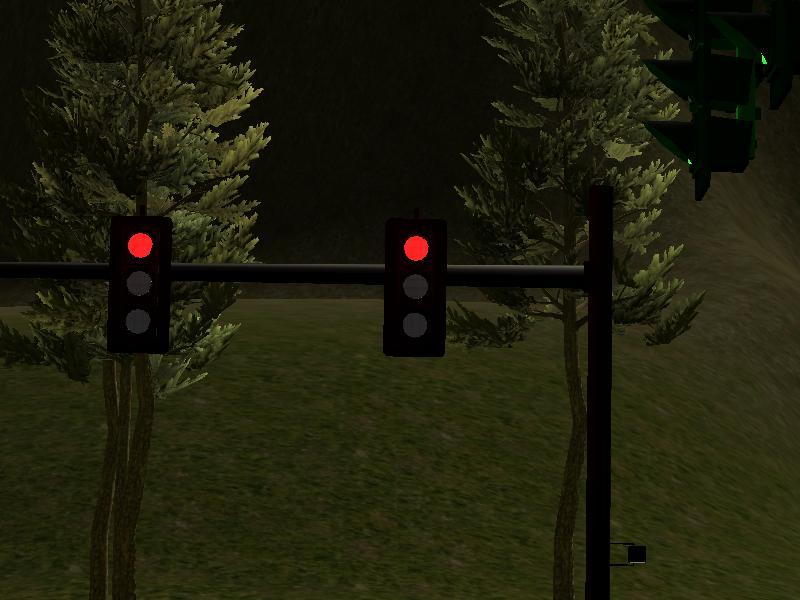Red: (388, 222, 443, 353), (115, 220, 170, 349)
